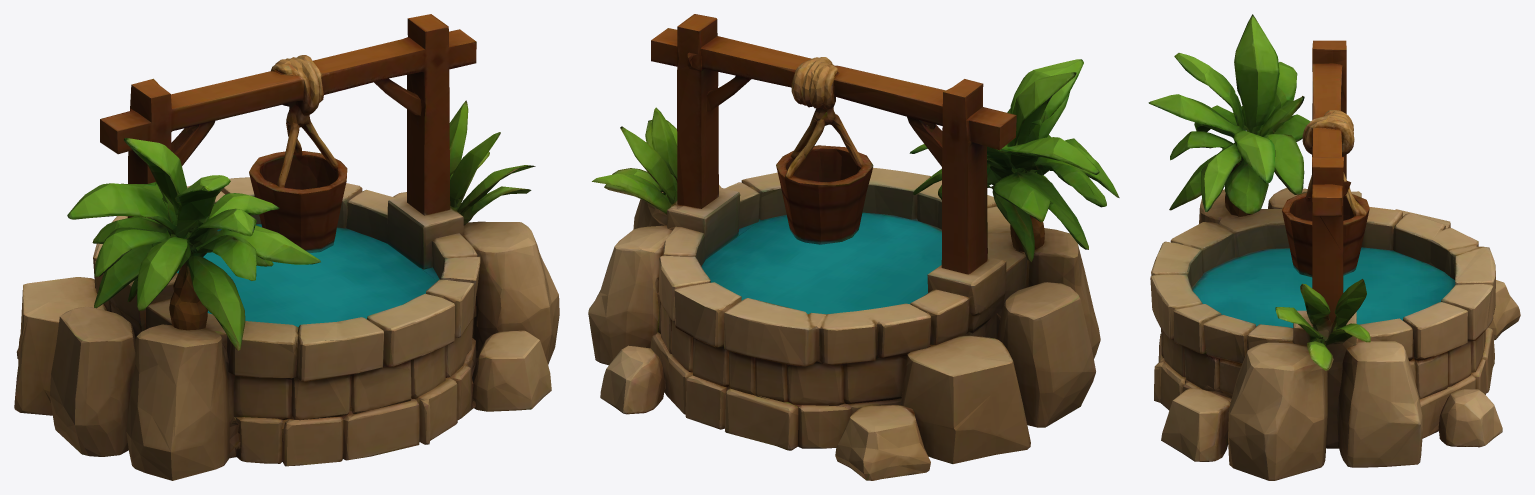
The model's file is oasis_well.glb.
3 views of the same model, side by side, from view 1: azimuth 30°, elevation 25°; view 2: azimuth 150°, elevation 25°; view 3: azimuth 270°, elevation 25° (orthographic). The views are drawn at different scales.
Parts seen in each view (by area): view 1: world; view 2: world; view 3: world.
Boxes of the visible parts, box(x1,y1,x2,y2) form: world: box(14, 14, 559, 480); world: box(588, 14, 1119, 480); world: box(1148, 14, 1520, 480).
Size of the model in its own units: 1 by 0.6463 by 0.7706.
1 material, 1 textured.
